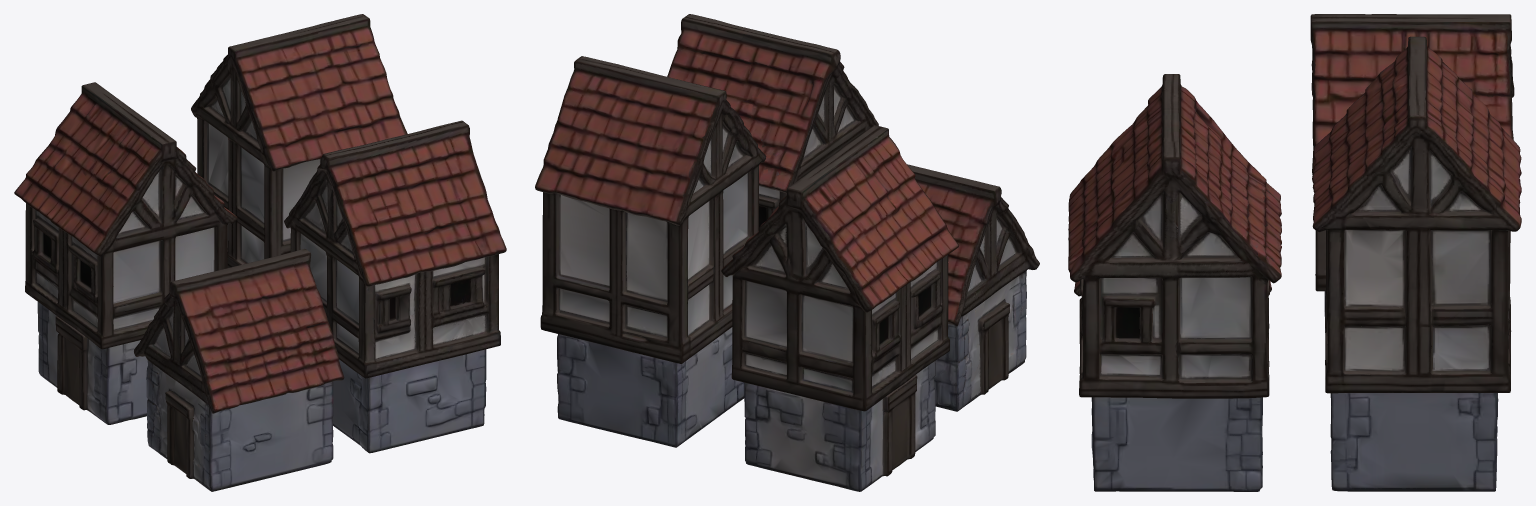
The model's file is village.glb.
3 renders of one model, left to right at view 1: azimuth 30°, elevation 25°; view 2: azimuth 150°, elevation 25°; view 3: azimuth 270°, elevation 25°, orthographic. The views are drawn at different scales.
Parts seen in each view (by area): view 1: world; view 2: world; view 3: world.
Boxes of the visible parts, left/top/right/bottom form: world: left=14, top=14, right=506, bottom=491; world: left=535, top=14, right=1039, bottom=491; world: left=1068, top=14, right=1521, bottom=491.
Bounding box in the file's own units: 0.9914 × 0.9328 × 1.
1 material, 1 textured.
